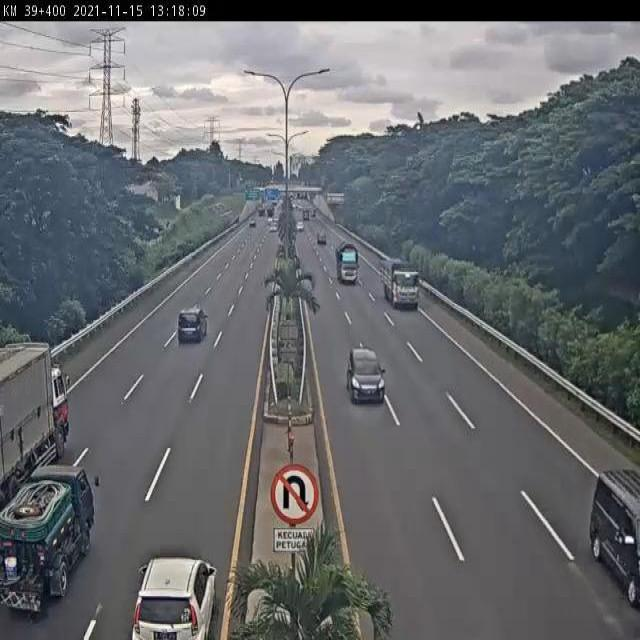car: (130, 552, 222, 640), (345, 345, 387, 407), (177, 307, 208, 344)
truck-l-: (0, 337, 72, 500), (382, 255, 421, 308)
truck-m-: (0, 460, 97, 615), (335, 241, 359, 284)
